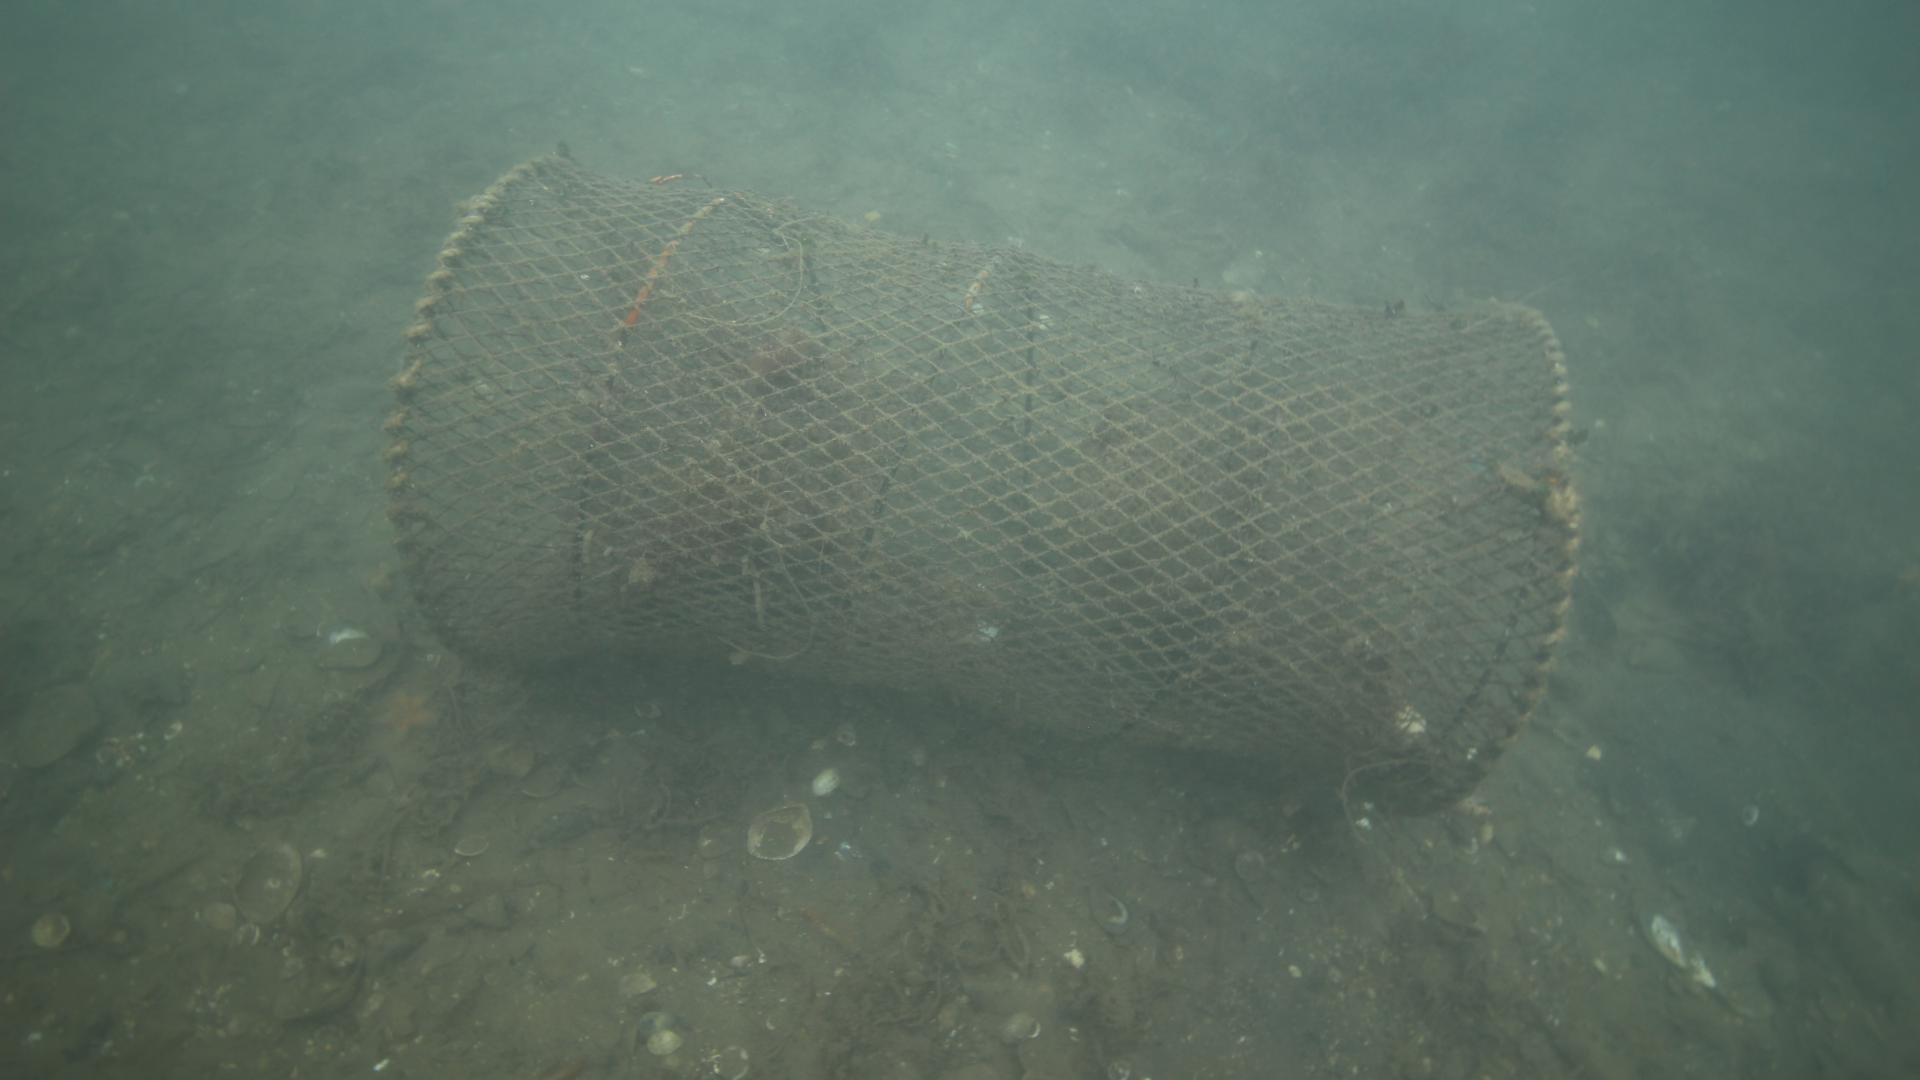spring fish trap: (382, 152, 1576, 818)
